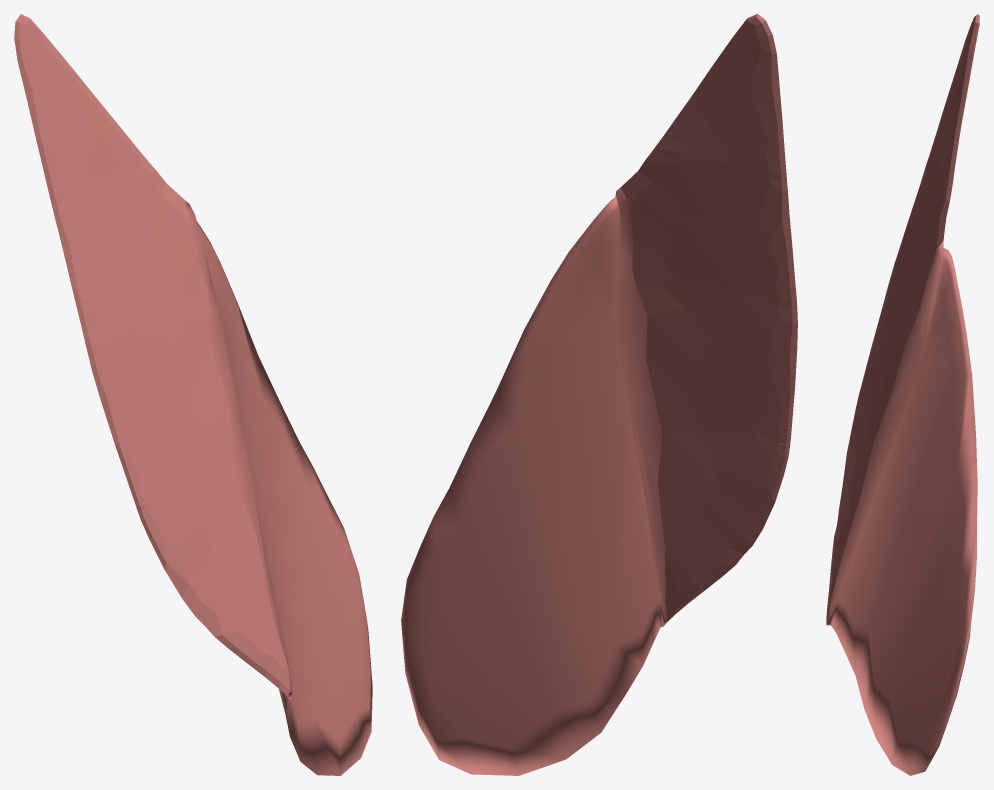
3 views of the same model, side by side, from view 1: azimuth 30°, elevation 25°; view 2: azimuth 150°, elevation 25°; view 3: azimuth 270°, elevation 25° (orthographic). The views are drawn at different scales.
Visible parts, largest first — view 1: ZA_ff12be530f632edc; view 2: ZA_ff12be530f632edc; view 3: ZA_ff12be530f632edc.
Boxes of the visible parts, left/top/right/bottom form: ZA_ff12be530f632edc: left=14, top=14, right=372, bottom=775; ZA_ff12be530f632edc: left=401, top=14, right=797, bottom=775; ZA_ff12be530f632edc: left=826, top=14, right=979, bottom=775.
Size of the model in its own units: 0.0217 by 0.0479 by 0.0103.
